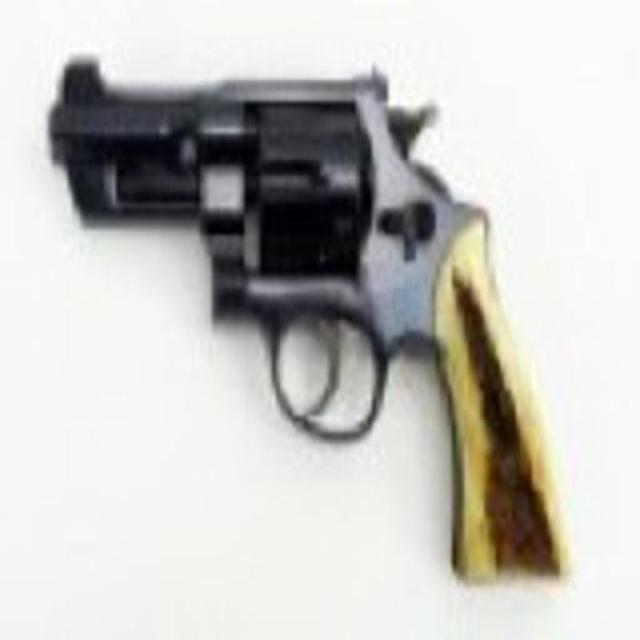pistol: (60, 47, 564, 581)
